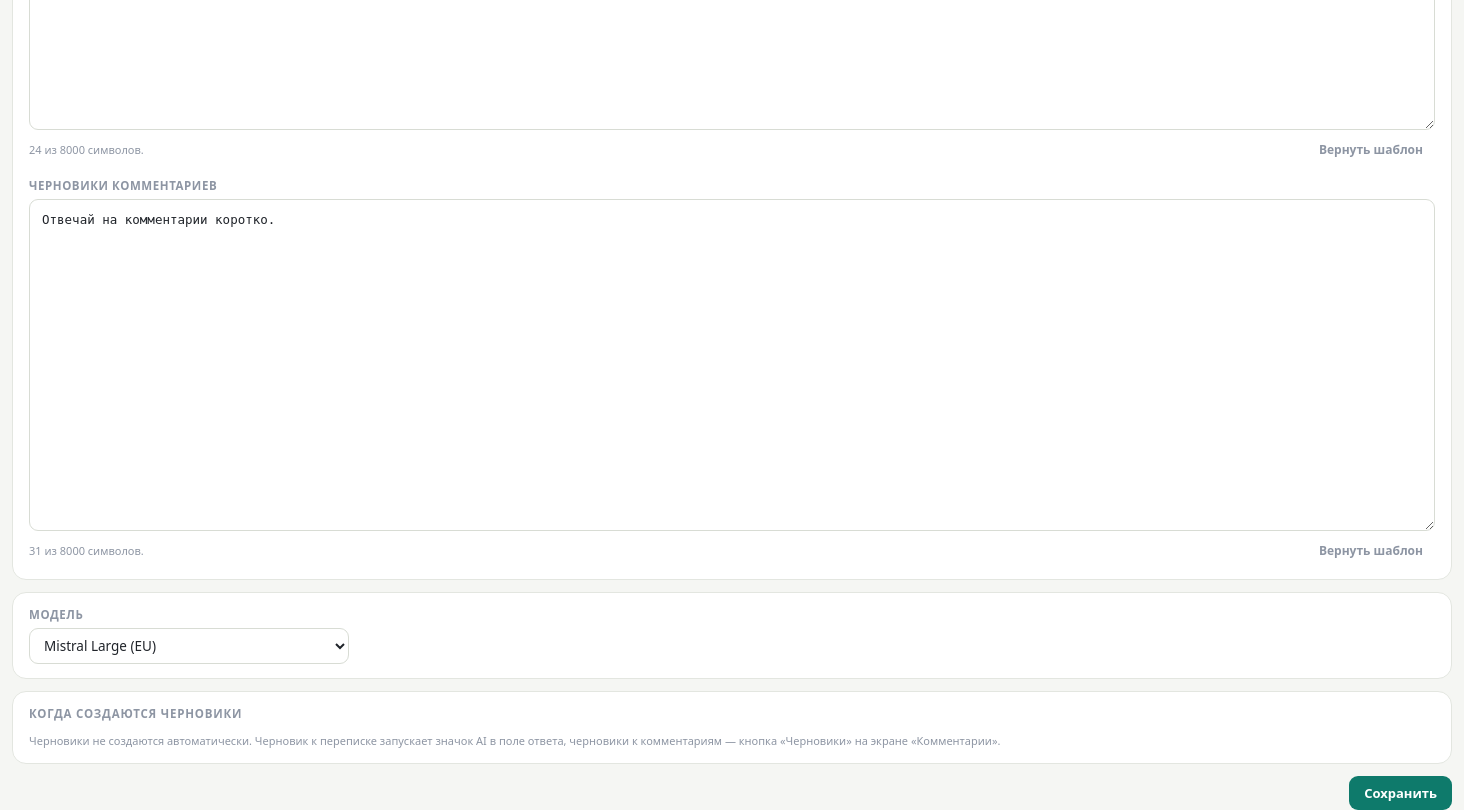
it: AiSettingsForm › keeps optimistic edits, shows pending state and confirms persistence
(page scrolled)
Select "Авто — модель из конфигурации" in the dropdown labelled "Модель" at (189, 646), box [29,628,349,664]
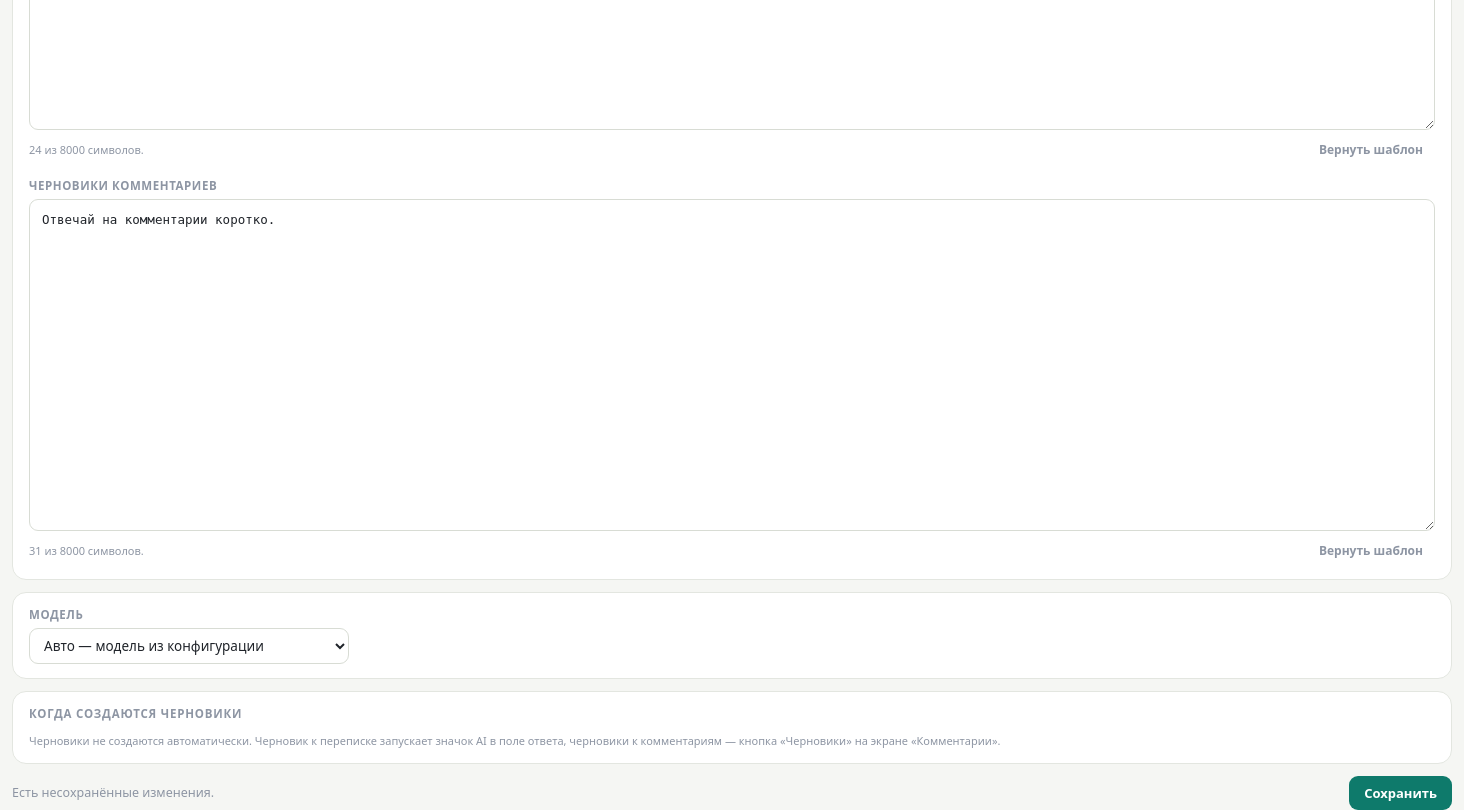
Expected: the text "Есть несохранённые изменения." is shown, [12,784,214,802]
Click the button "Сохранить".
click(1401, 793)  # box [1349,776,1452,809]
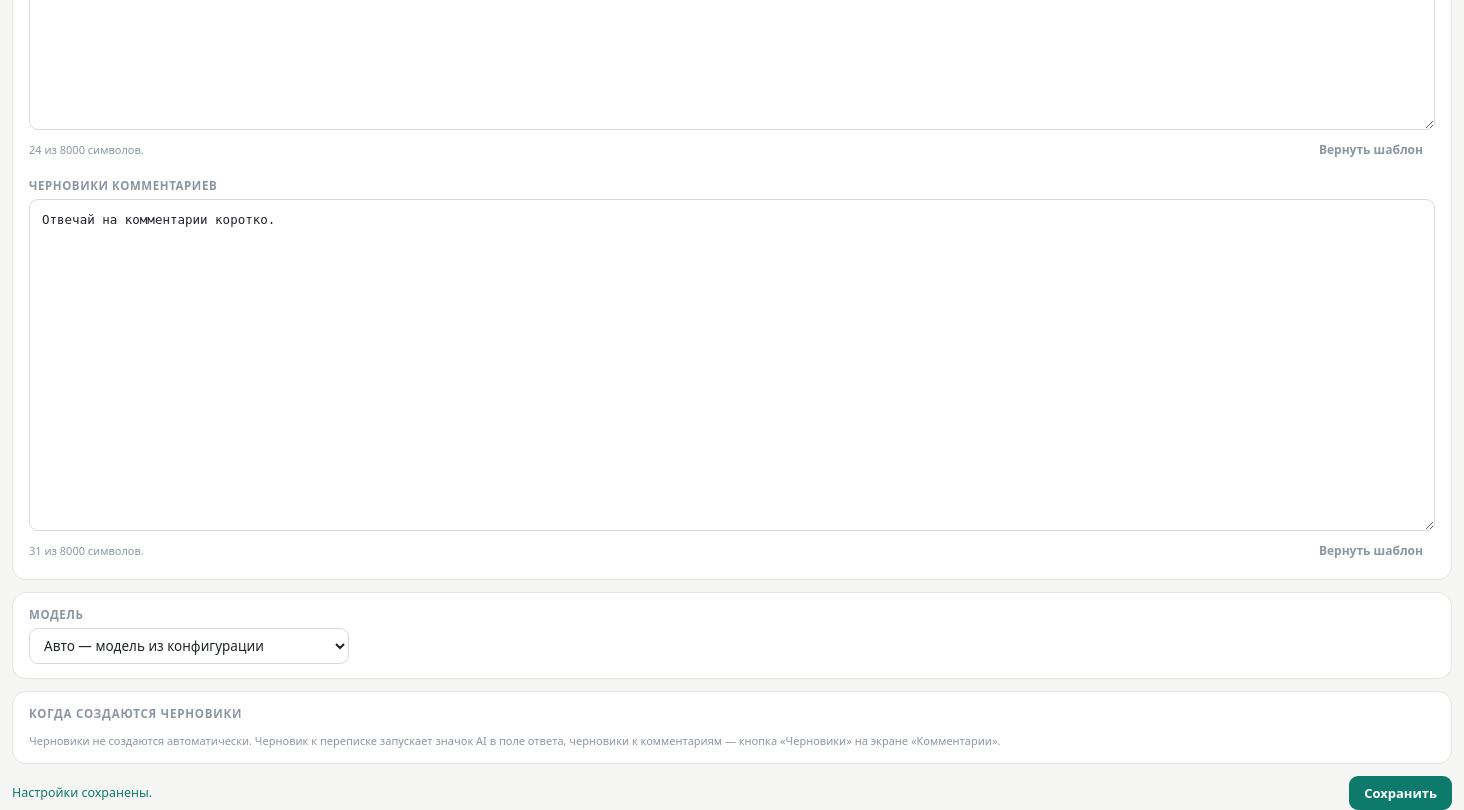
Expected: the message reads "Настройки сохранены.", [12,784,152,801]
